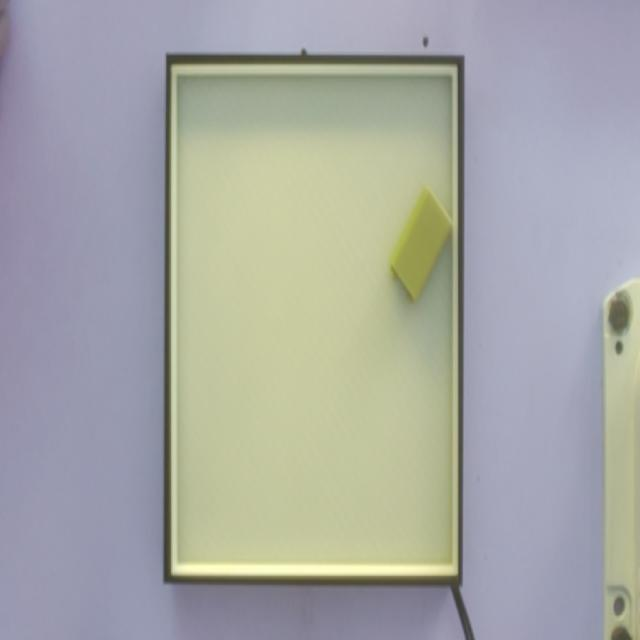bateria: (388, 184, 453, 302)
mesa: (164, 55, 465, 587)
